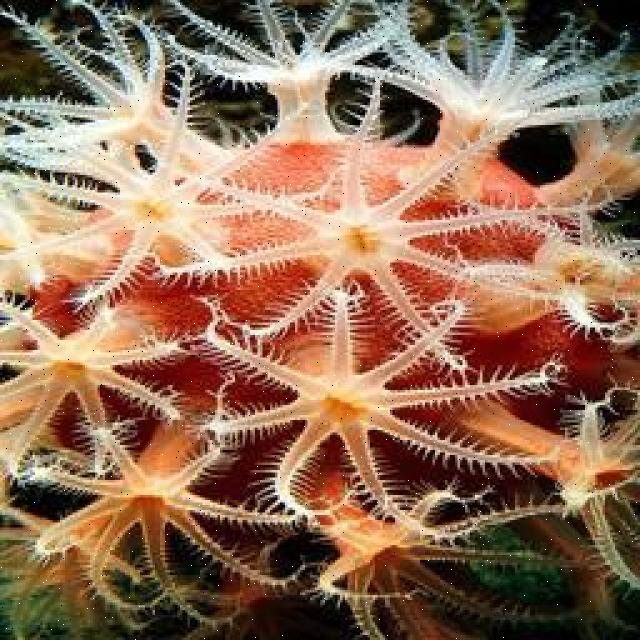reefs: (0, 0, 638, 638)
